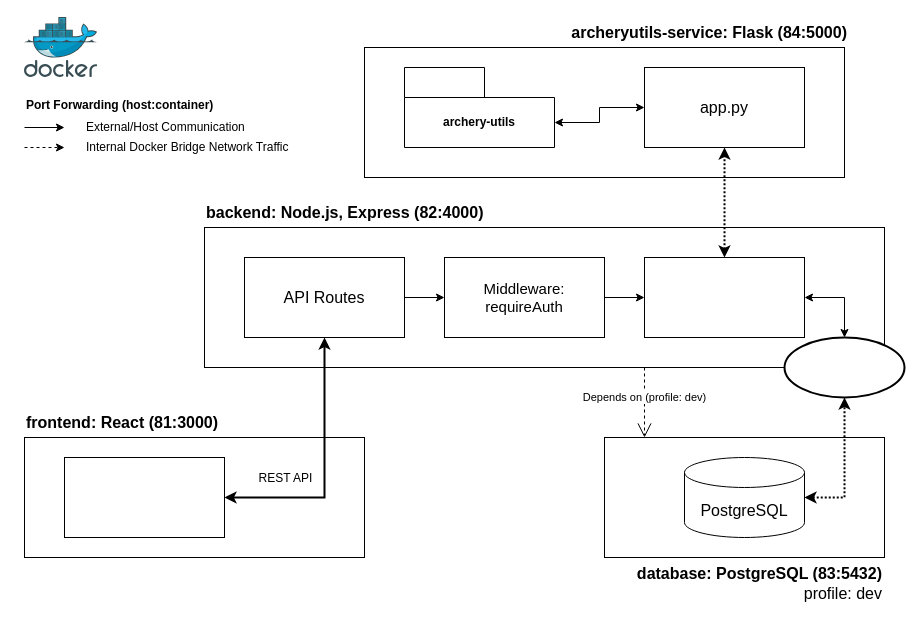
Some shapes in this 923 by 619 pixel diagram are drawn without their labels. The shapes that lost their labels are listed below. From the top down, each one's centre as x and y in pixels, then its label:
the point at 724,297: Controllers
the point at 844,367: Prisma ORM
the point at 144,497: React Application
